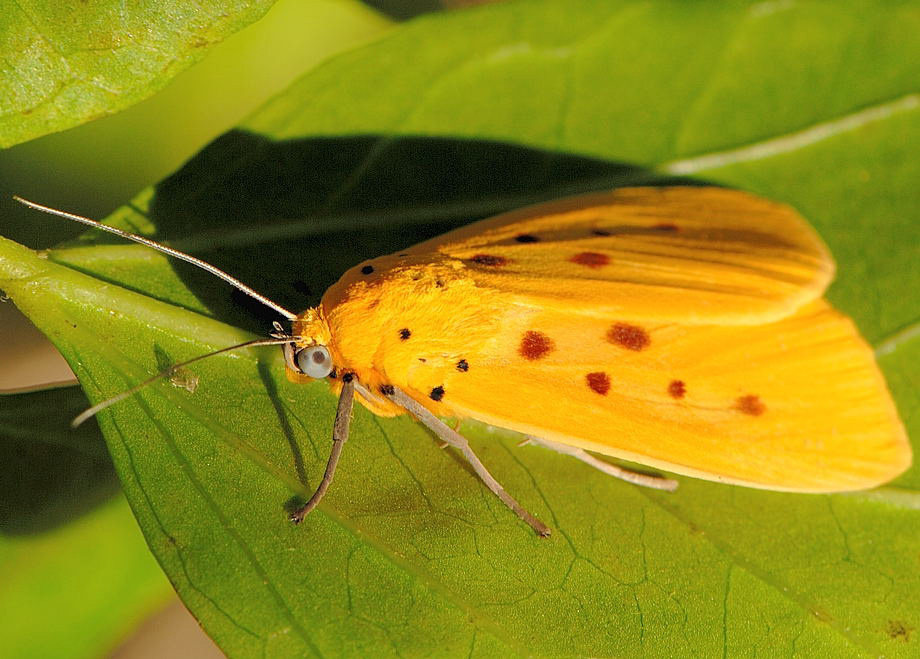Agape chloropyga: (13, 179, 915, 541)
moth: (10, 183, 912, 545)
